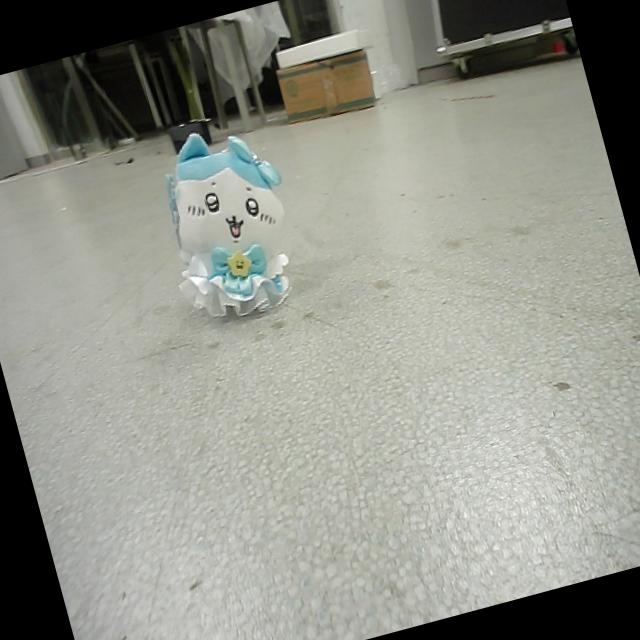xiaoba: (137, 109, 316, 338)
